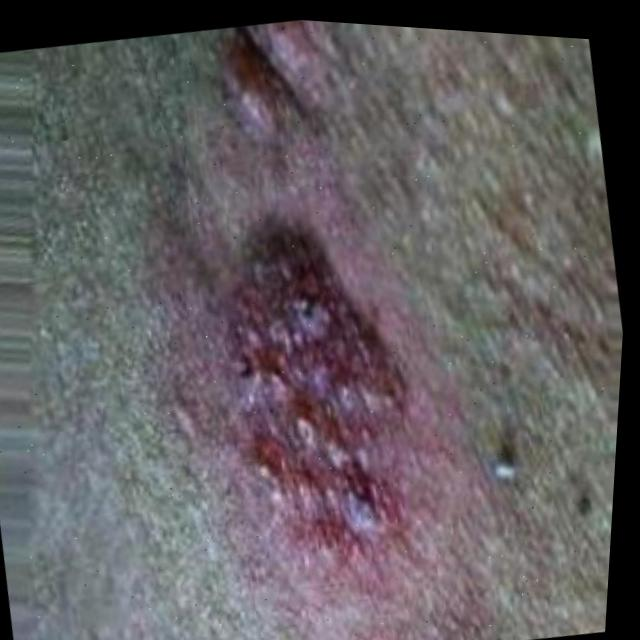Shingles: (205, 221, 442, 582), (209, 47, 322, 137)
